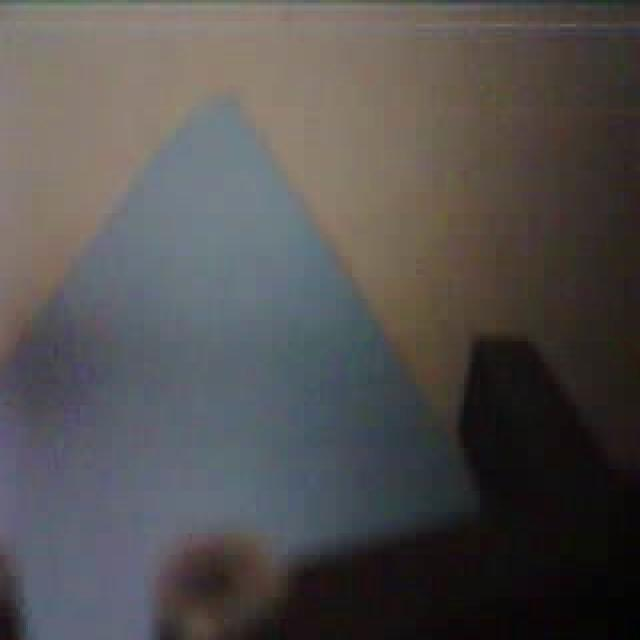blue_box: (0, 88, 480, 637)
